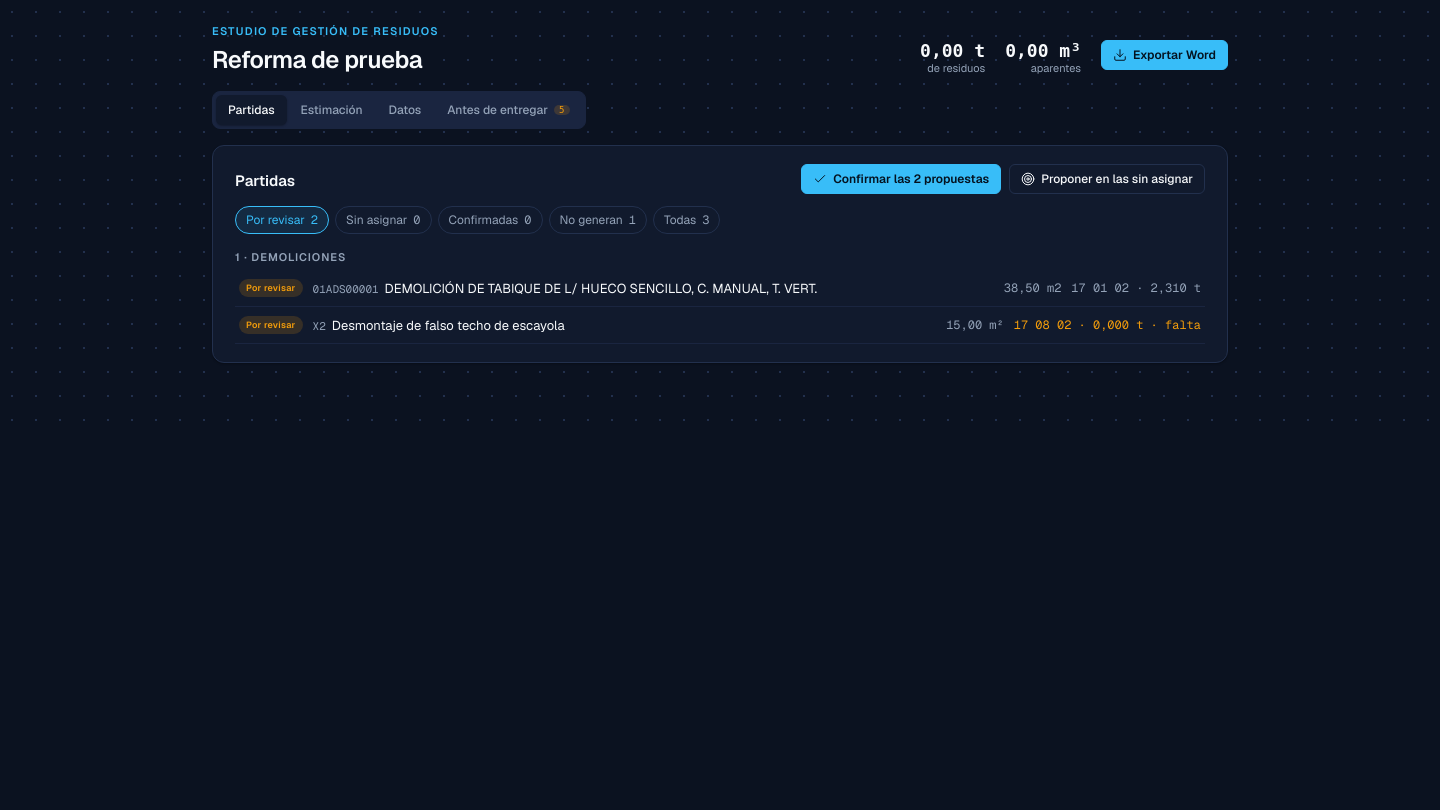
vista Residuos › el capítulo de gestión se enlaza solo por su título y es el 7.º
This screenshot has width=1440, height=810.
Click the tab "Estimación" at (332, 110), box [289,95,374,125]
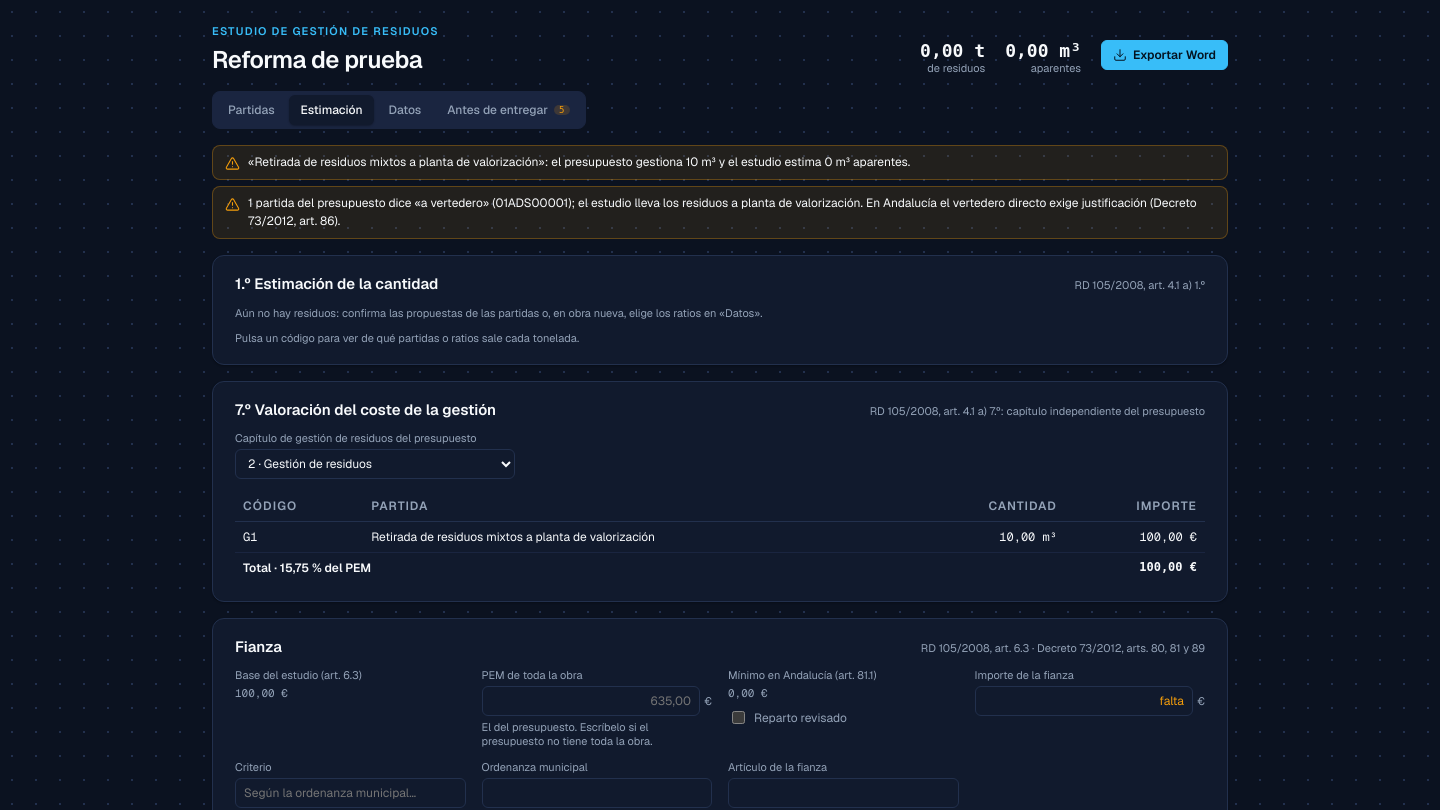
Check: the dropdown labelled "Capítulo de gestión de residuos del presupuesto" shows "2 · Gestión de residuos", box [235,449,515,479]
Check: the text "Retirada de residuos mixtos a planta de valorización" is shown, box [363,522,911,553]
